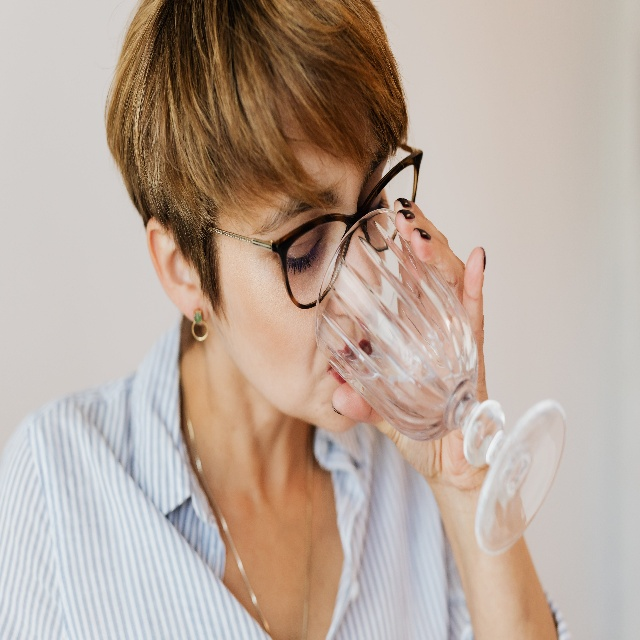Gafas: (192, 142, 426, 310)
Sin_guantes: (334, 199, 495, 501)
